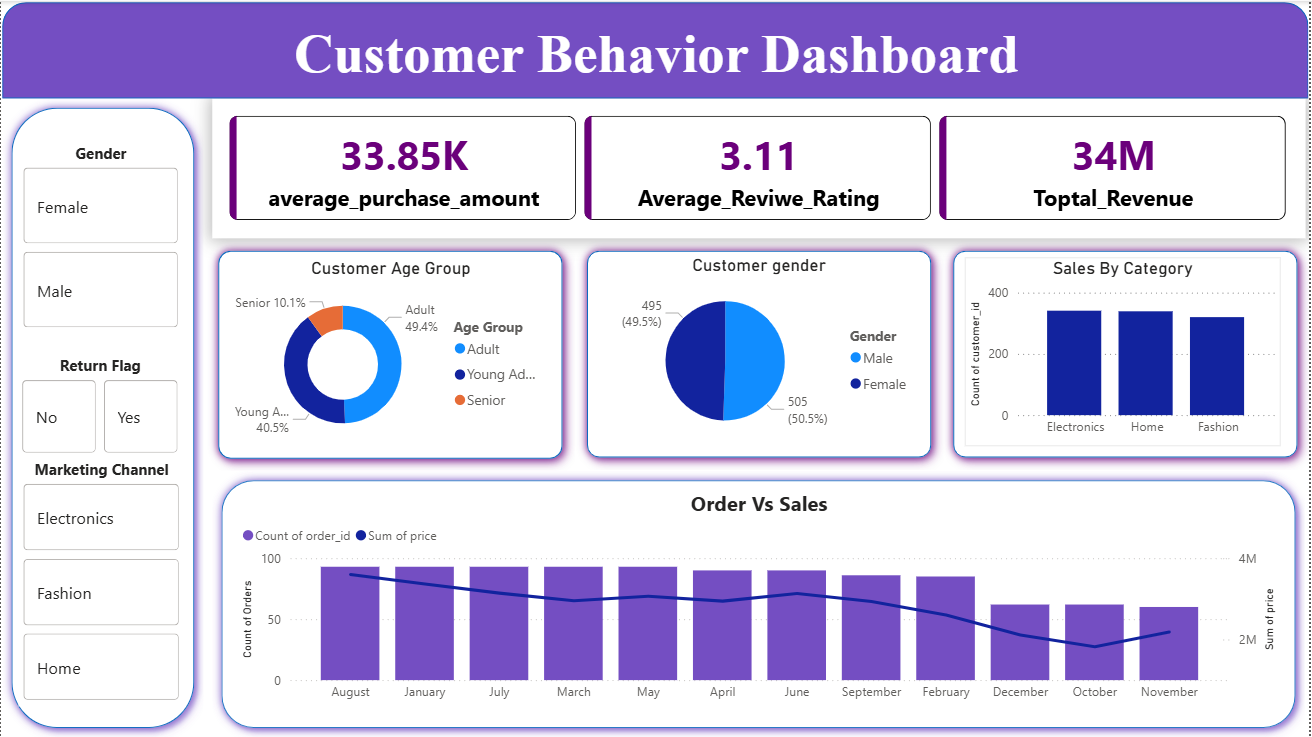

The page's visual inventory and layout, read from the dashboard file:
{"tool":"powerbi","page":{"name":"Page 1","canvas":[1280,720],"ordinal":0},"visuals":[{"type":"cardVisual","fields":{"Data":["new_one.average_purchase_amount","new_one.Average_Reviwe_Rating","new_one.Toptal_Revenue"]},"box":[206.7,95.4,1070,137],"z":0},{"type":"shape","box":[1.2,1.2,1277.9,94.2],"z":1000},{"type":"textbox","box":[1,364.5,1278,150],"z":2000},{"type":"textbox","box":[2.4,17.1,1277.9,78.3],"z":3000},{"type":"shape","box":[919.6,232.3,360.7,226.2],"z":4000},{"type":"shape","box":[561.3,232.3,360.7,226.2],"z":5000},{"type":"shape","box":[200.5,232.3,360.7,227.4],"z":6000},{"type":"pieChart","title":"Customer gender","fields":{"Category":["new_one.Gender"],"Y":["CountNonNull(new_one.customer_id)"]},"box":[582.1,248.2,319.2,187.1],"z":7000},{"type":"clusteredColumnChart","title":"Sales By Category","fields":{"Category":["new_one.category"],"Y":["CountNonNull(new_one.customer_id)"]},"box":[942.8,250.7,309.4,184.6],"z":8000},{"type":"donutChart","title":"Customer Age Group","fields":{"Y":["CountNonNull(new_one.customer_id)"],"Category":["new_one.Age Group"]},"box":[221.3,250.7,320.4,189.5],"z":9000},{"type":"shape","box":[1.2,95.4,196.9,624.9],"z":10000},{"type":"advancedSlicerVisual","fields":{"Values":["new_one.Gender"]},"box":[17.1,138.2,161.4,187.1],"z":11000},{"type":"advancedSlicerVisual","title":"Return Flag","fields":{"Values":["new_one.return_flag"]},"box":[15.9,346.1,162.6,101.5],"z":12000},{"type":"advancedSlicerVisual","title":"Marketing Channel","fields":{"Values":["new_one.category"]},"box":[17.1,447.6,162.6,242.1],"z":13000},{"type":"shape","box":[206.7,459.8,1068.8,260.5],"z":14000},{"type":"lineStackedColumnComboChart","title":"Order Vs Sales","fields":{"Y":["CountNonNull(new_one.order_id)"],"Y2":["Sum(new_one.price)"],"Category":["new_one.Month"]},"box":[231.1,476.9,1021.1,227.4],"z":15000}]}

Visuals, with their boxes in screenshot pixels (x1, y1, x2, y2), scaled from the page's 1280x720 canvas onto the 1312x737 screenshot:
cardVisual - new_one.average_purchase_amount x new_one.Average_Reviwe_Rating: 212,98,1309,238
shape: 1,1,1311,98
textbox: 1,373,1311,527
textbox: 2,18,1311,98
shape: 943,238,1311,469
shape: 575,238,945,469
shape: 206,238,575,471
"Customer gender" pieChart: 597,254,924,446
"Sales By Category" clusteredColumnChart: 966,257,1284,446
"Customer Age Group" donutChart: 227,257,555,451
shape: 1,98,203,736
advancedSlicerVisual - new_one.Gender: 18,141,183,333
"Return Flag" advancedSlicerVisual: 16,354,183,458
"Marketing Channel" advancedSlicerVisual: 18,458,184,706
shape: 212,471,1307,736
"Order Vs Sales" lineStackedColumnComboChart: 237,488,1284,721
